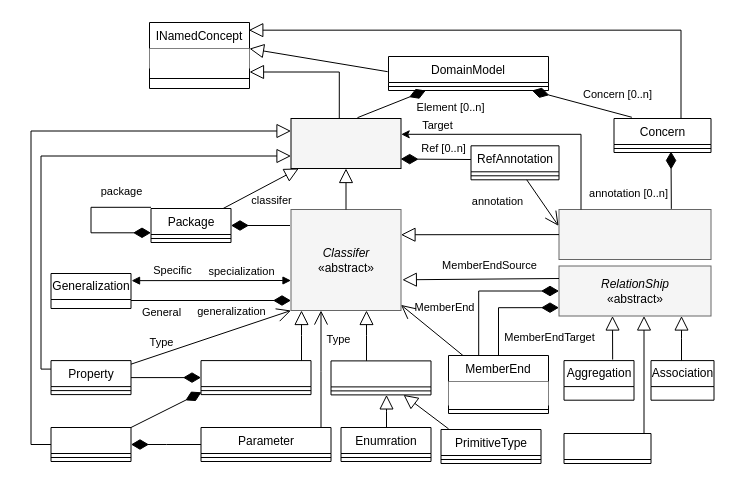
The diagram is 731 pixels wide and 482 high, and some of its shapes have lost their labels. Here are the shapes that lost their labels. From the top down, the centre of each, then its label:
At point (199, 58): "name: string".
At point (345, 143): "Annotable «abstract»".
At point (634, 234): "Annotation «abstract»".
At point (255, 377): "Class".
At point (380, 377): "DataType".
At point (498, 393): "role: string".
At point (90, 444): "Operation".
At point (607, 448): "Composition".
